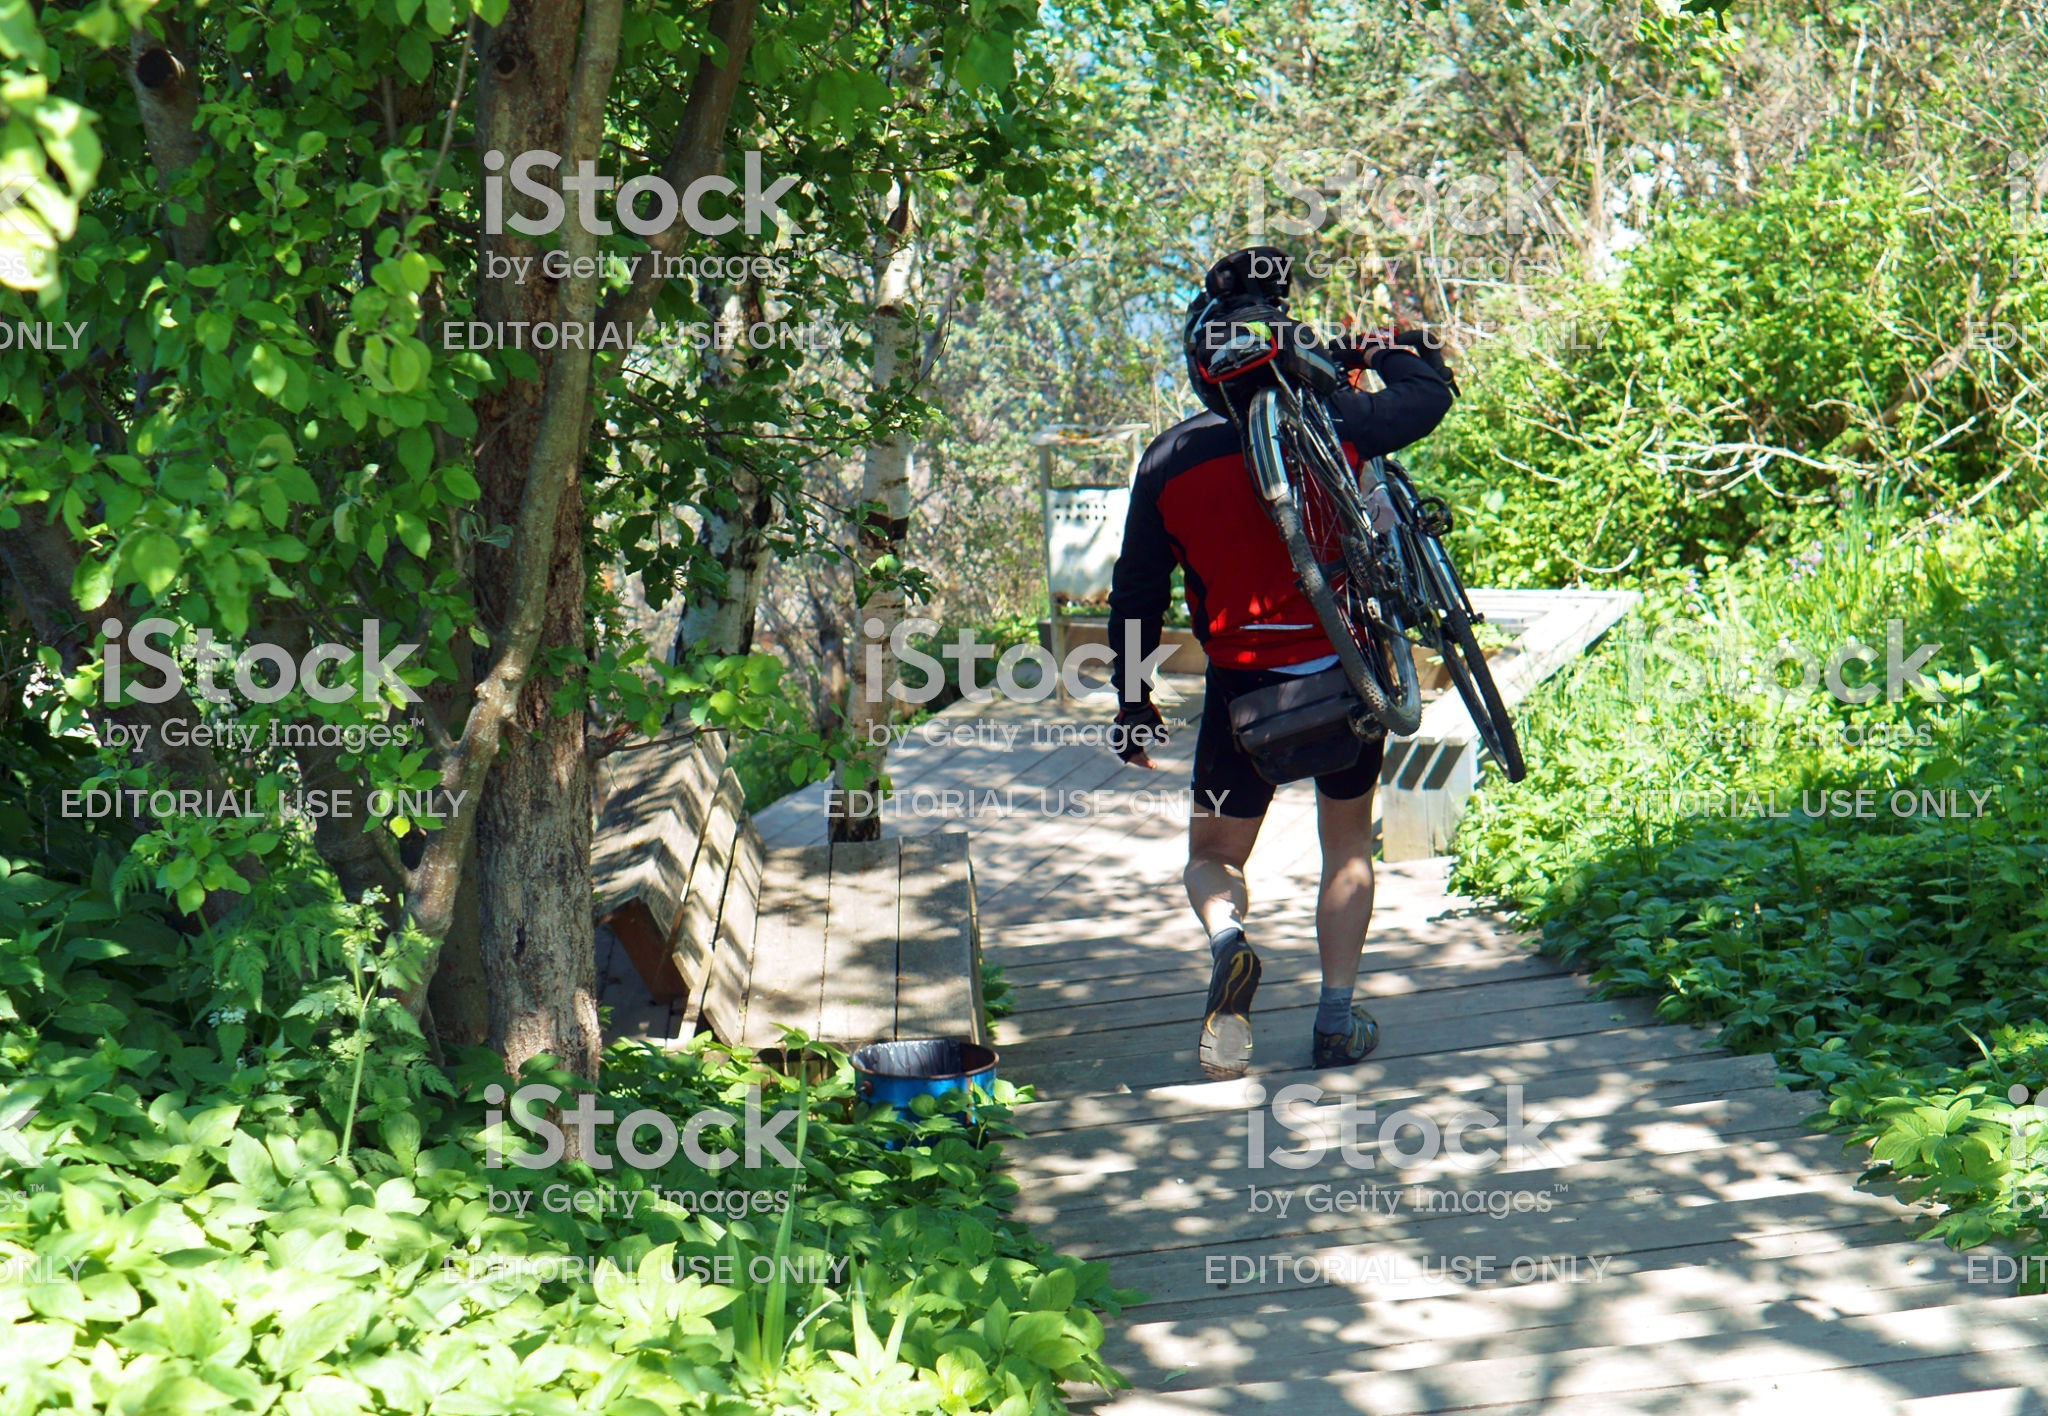helmet: (1173, 258, 1253, 369)
